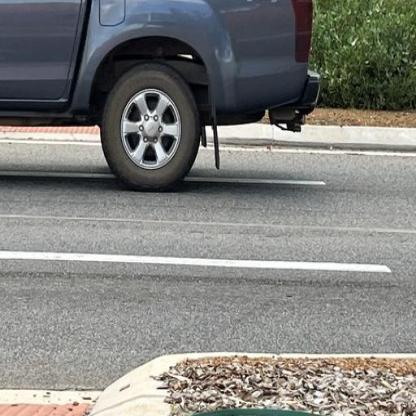Tire: (101, 62, 201, 192)
